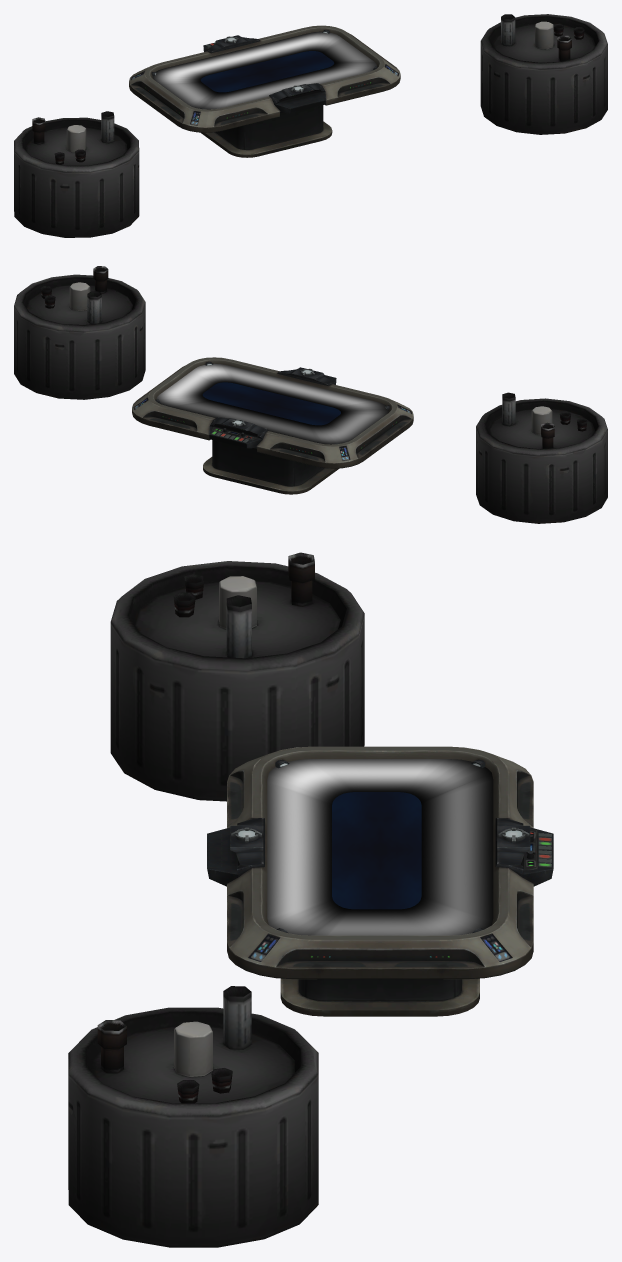
File: env_campaign_holo_table_pre.glb
3 renders of one model, top to bottom at view 1: azimuth 30°, elevation 25°; view 2: azimuth 150°, elevation 25°; view 3: azimuth 270°, elevation 25°, orthographic. The views are drawn at different scales.
Parts seen in each view (by area): view 1: tat_cantina_table_mesh (5), tat_cantina_table_mesh (6), holotable_base_low_mesh, vfx_holotable_glow_mesh_01 (×2), holotable_surface_low_mesh; view 2: tat_cantina_table_mesh (5), tat_cantina_table_mesh (6), holotable_base_low_mesh, vfx_holotable_glow_mesh_01 (×2), holotable_surface_low_mesh; view 3: tat_cantina_table_mesh (5), tat_cantina_table_mesh (6), holotable_base_low_mesh, vfx_holotable_glow_mesh_01 (×2), holotable_surface_low_mesh.
Boxes of the visible parts, x1,y1,x2,y2 form: tat_cantina_table_mesh (5): (480, 14, 607, 134); tat_cantina_table_mesh (6): (14, 111, 139, 237); holotable_base_low_mesh: (129, 25, 400, 157); vfx_holotable_glow_mesh_01 (×2): (152, 31, 376, 109); holotable_surface_low_mesh: (200, 51, 334, 92); tat_cantina_table_mesh (5): (14, 266, 145, 399); tat_cantina_table_mesh (6): (476, 392, 607, 523); holotable_base_low_mesh: (132, 357, 413, 494); vfx_holotable_glow_mesh_01 (×2): (156, 363, 389, 444); holotable_surface_low_mesh: (202, 382, 340, 425); tat_cantina_table_mesh (5): (68, 986, 318, 1247); tat_cantina_table_mesh (6): (110, 552, 364, 801); holotable_base_low_mesh: (207, 746, 553, 1016); vfx_holotable_glow_mesh_01 (×2): (267, 759, 493, 935); holotable_surface_low_mesh: (332, 792, 421, 909).
Size of what is drawn, in the model's own units: 43.79 by 6.61 by 16.26.
4 materials, 4 textured.
